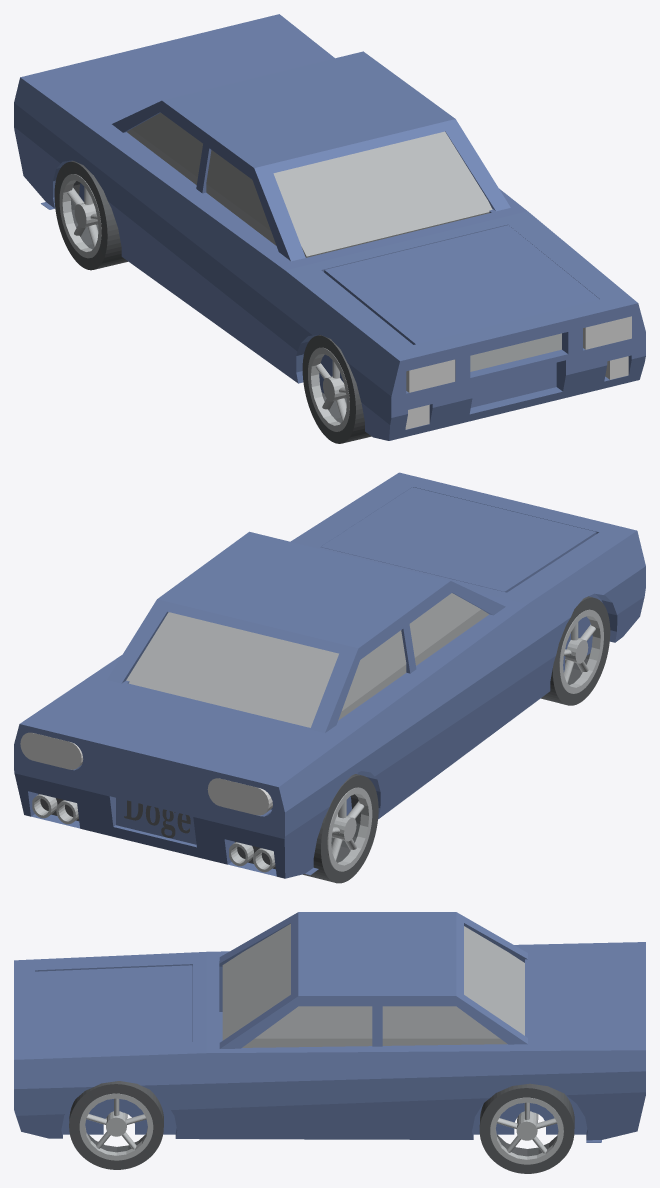
The model's file is coor.glb.
3 views of the same model, one above another, from view 1: azimuth 30°, elevation 25°; view 2: azimuth 150°, elevation 25°; view 3: azimuth 270°, elevation 25° (orthographic). The views are drawn at different scales.
Parts seen in each view (by area): view 1: Mesh_Mesh_head_geo.001_lambert2SG.001; view 2: Mesh_Mesh_head_geo.001_lambert2SG.001; view 3: Mesh_Mesh_head_geo.001_lambert2SG.001.
Part boxes in pixels (<box>): Mesh_Mesh_head_geo.001_lambert2SG.001: <box>14,14,645,443</box>; Mesh_Mesh_head_geo.001_lambert2SG.001: <box>14,472,645,883</box>; Mesh_Mesh_head_geo.001_lambert2SG.001: <box>14,912,645,1173</box>.
Size of the model in its own units: 52 by 34 by 120.
